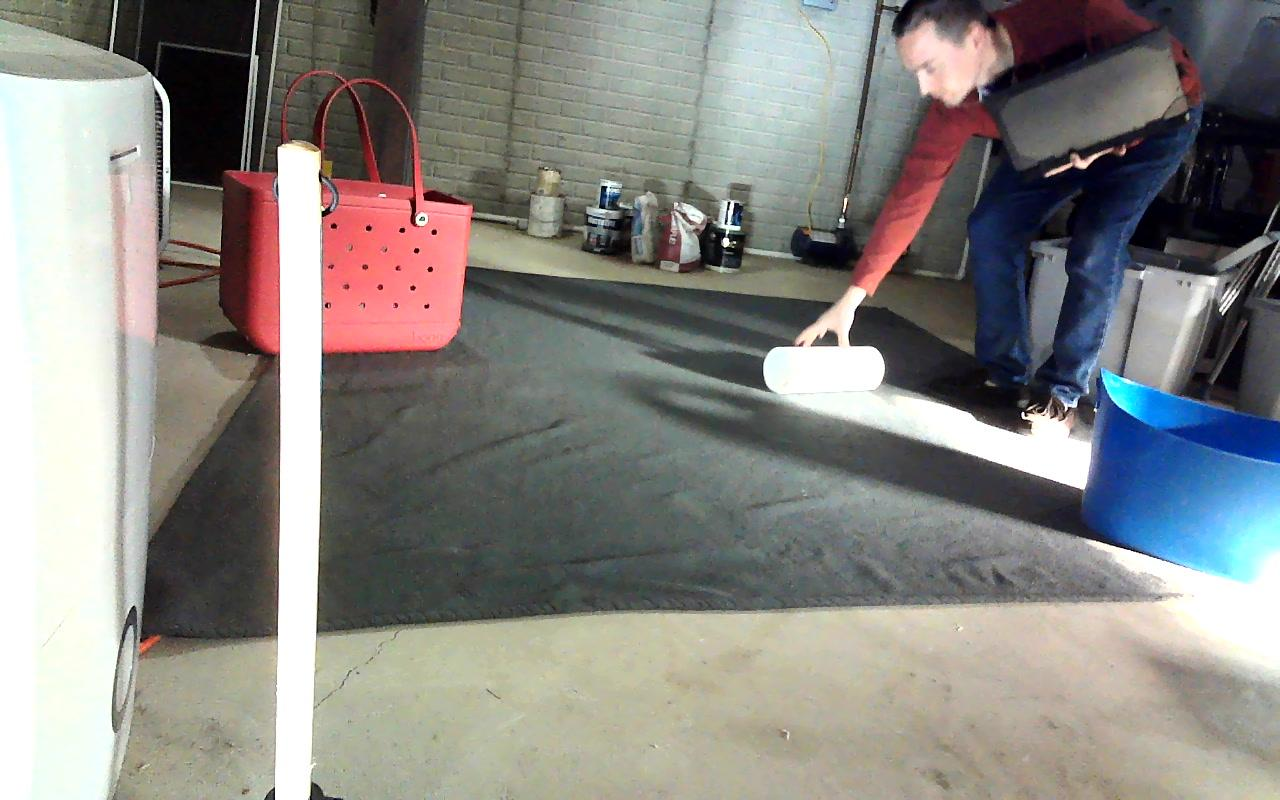coral: (764, 344, 884, 395)
